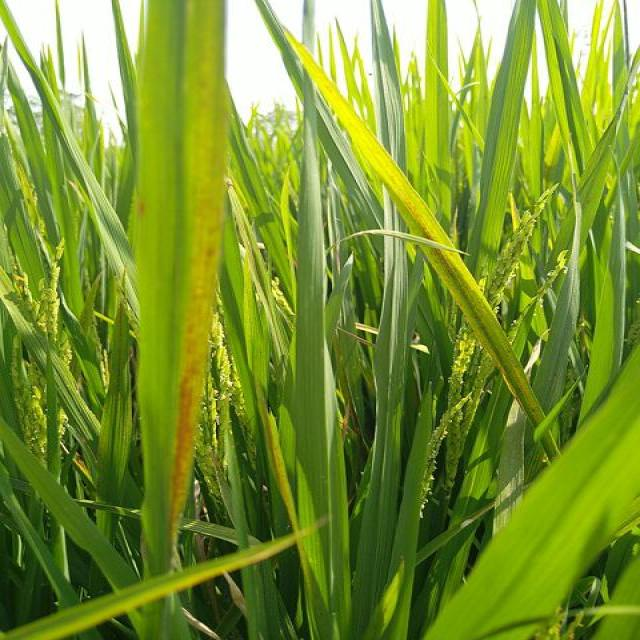Leaf Streak: (7, 510, 336, 639), (288, 31, 453, 248), (169, 0, 224, 530), (417, 244, 545, 427), (268, 413, 297, 532), (135, 189, 145, 237)
